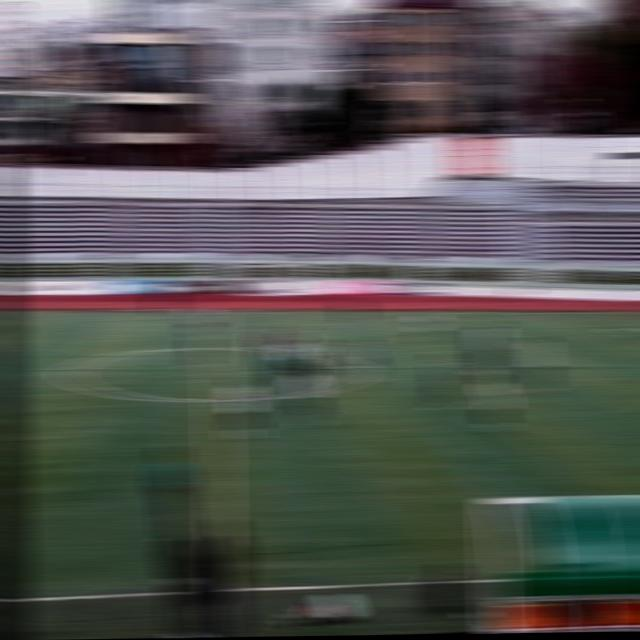bigarea_top_inner: (605, 321, 629, 337)
halfcircle_bottom: (204, 392, 228, 411)
halfcircle_top: (204, 341, 228, 357)
midline_top_intersection: (205, 308, 226, 318)
